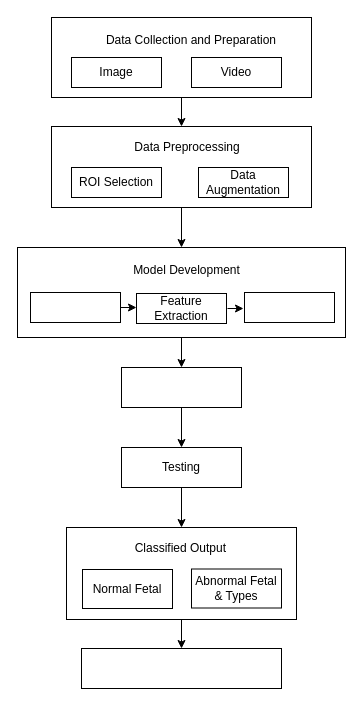
Image size: 363x706. Some labels were removed from this diagram. Each missing label, with the centre of its shape:
Classifier: [289,307]
Integration and Deployment: [181,668]
Preprocessed data: [75,307]
Training: [181,387]
